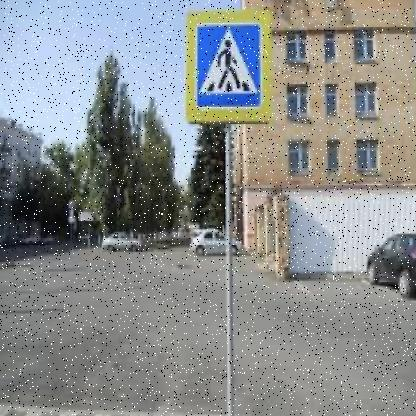Pedestrian Crossing: (199, 27, 261, 103)
